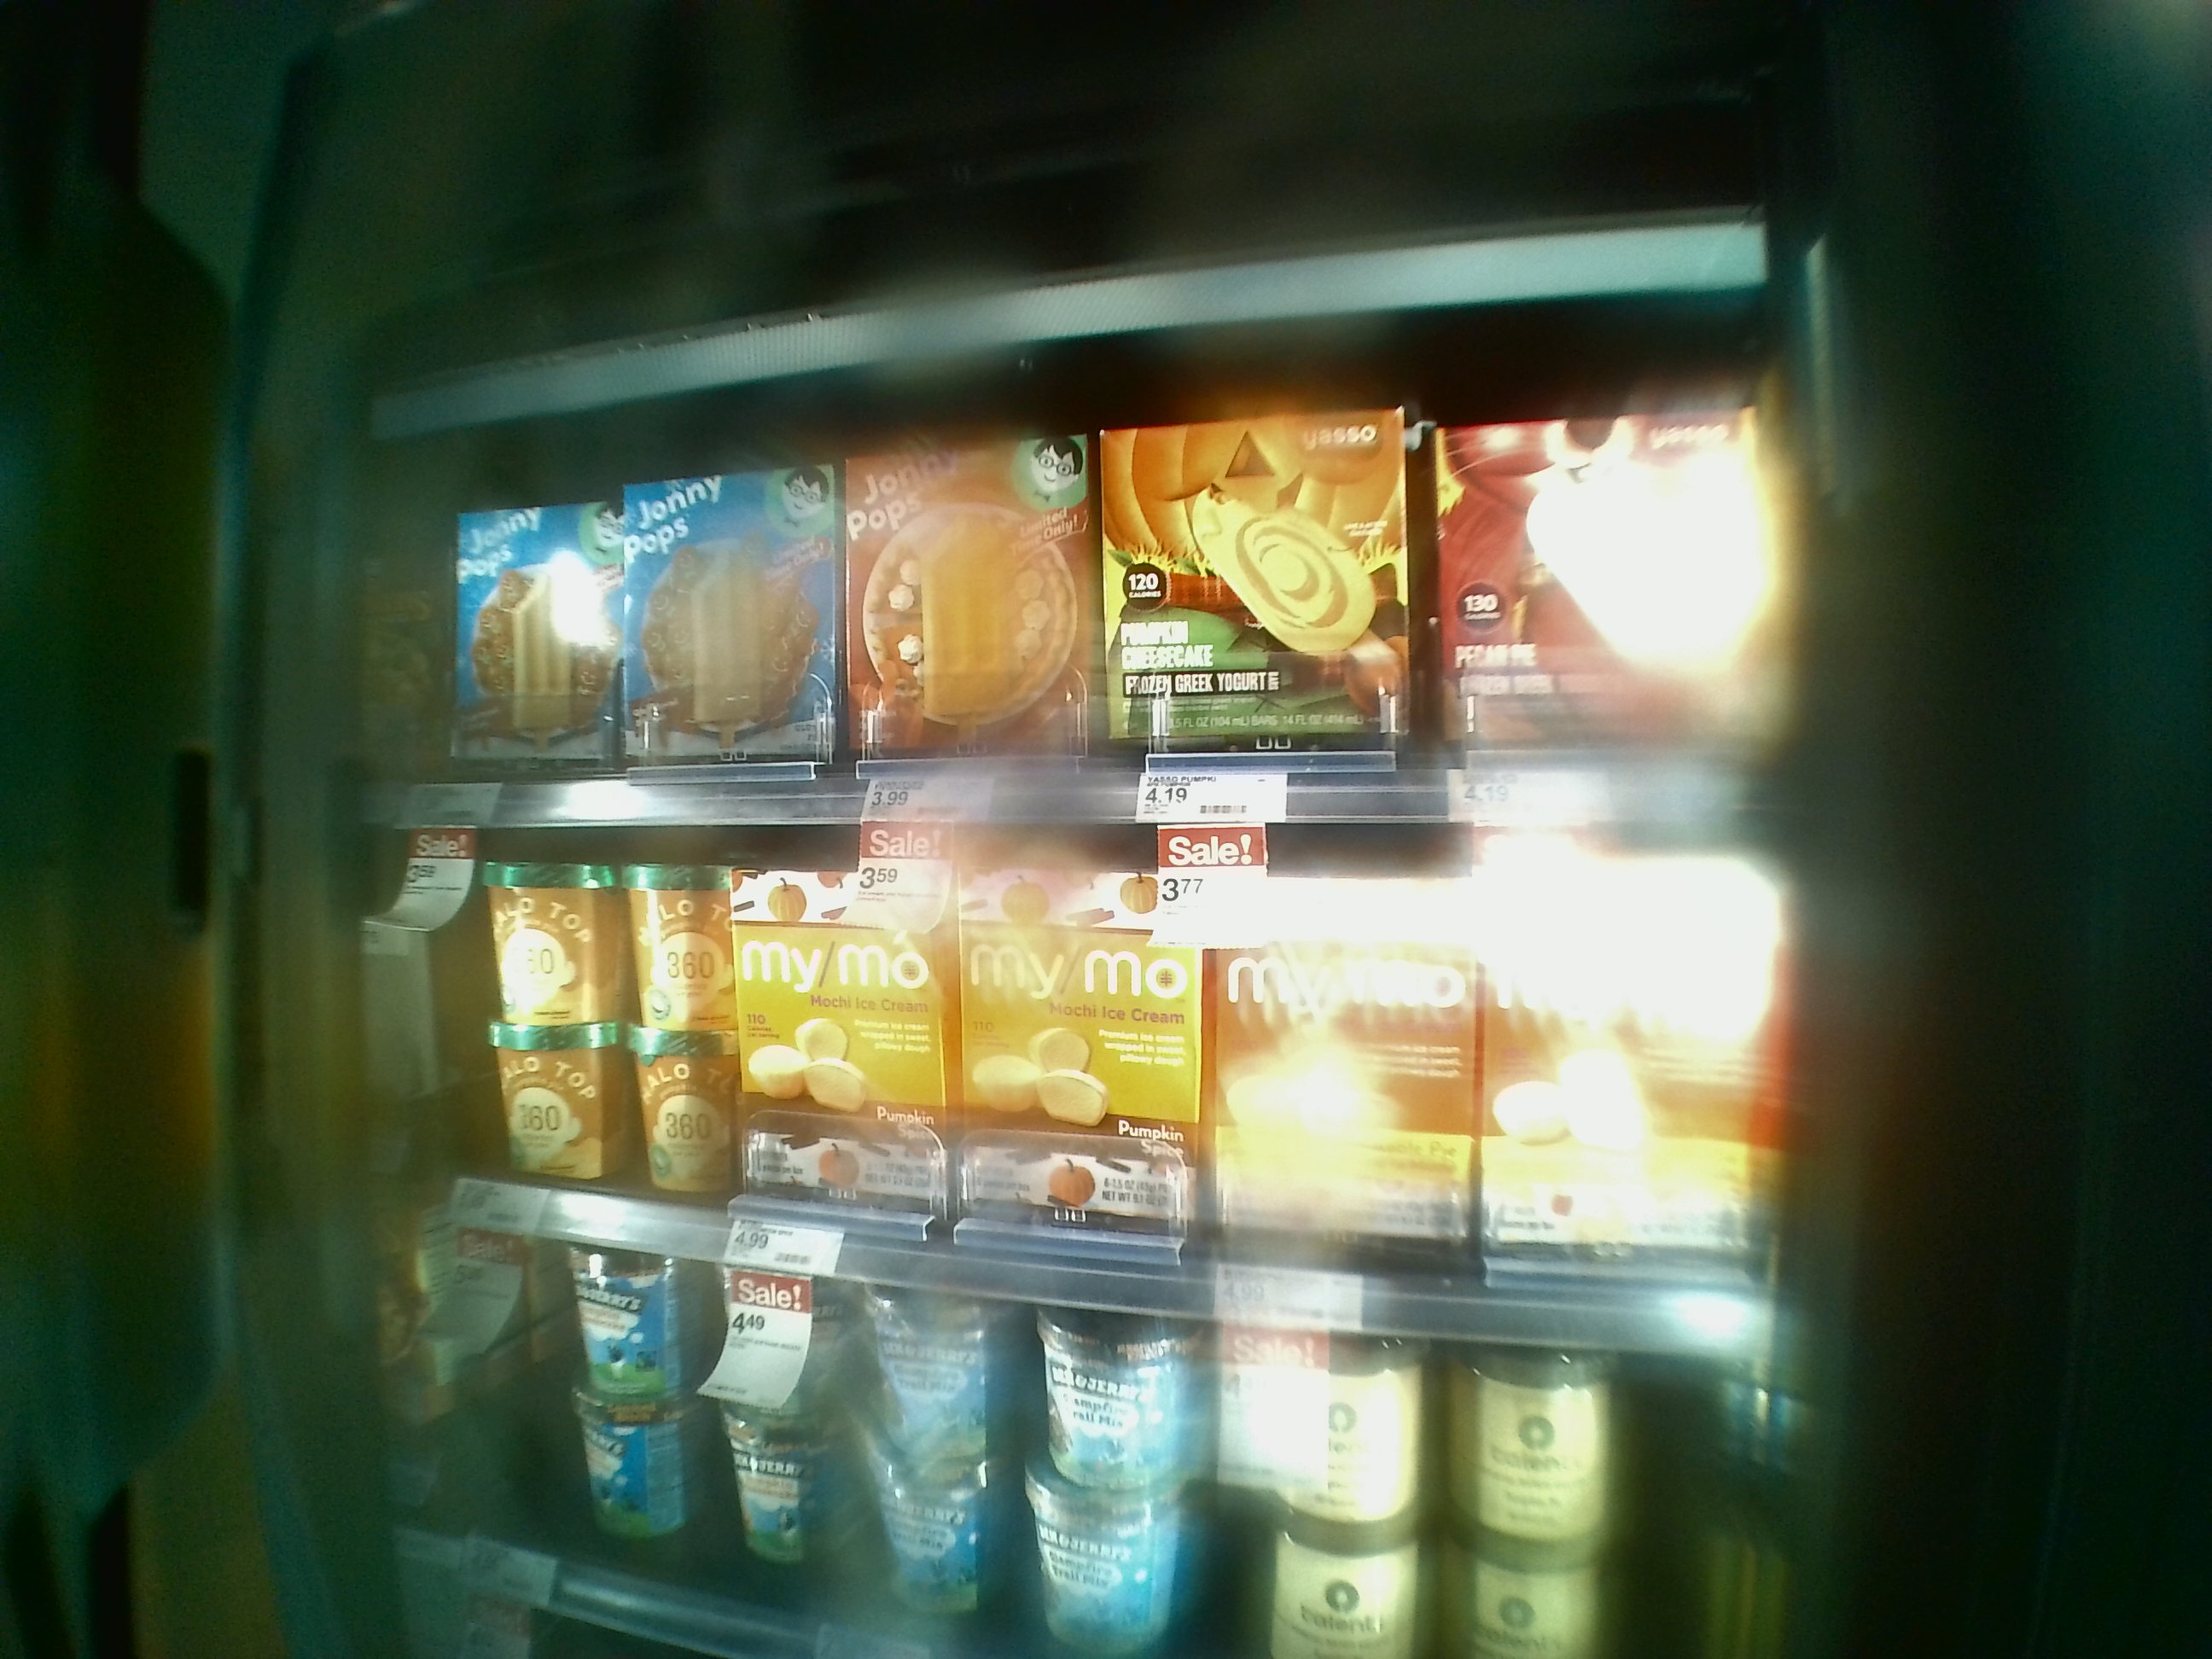shelf: (347, 775, 1832, 1345), (364, 375, 1827, 821)
